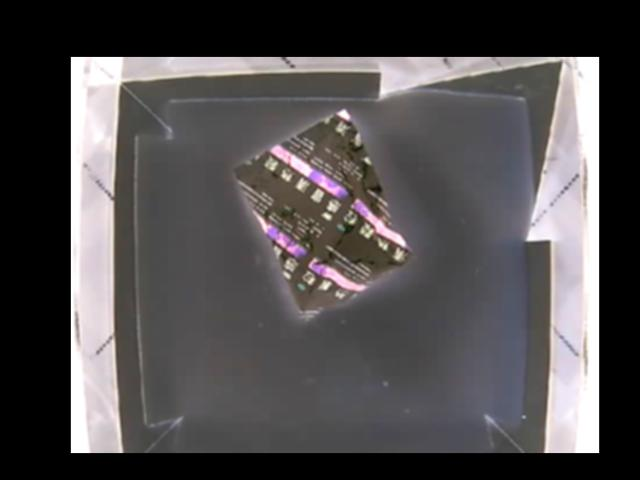Medicine: (231, 108, 410, 315)
